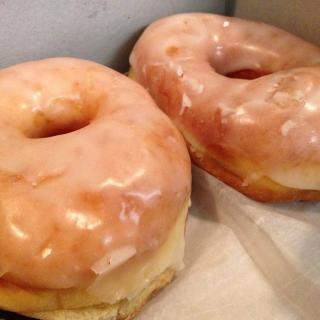Doughnut: (0, 53, 192, 320), (126, 11, 320, 207)
